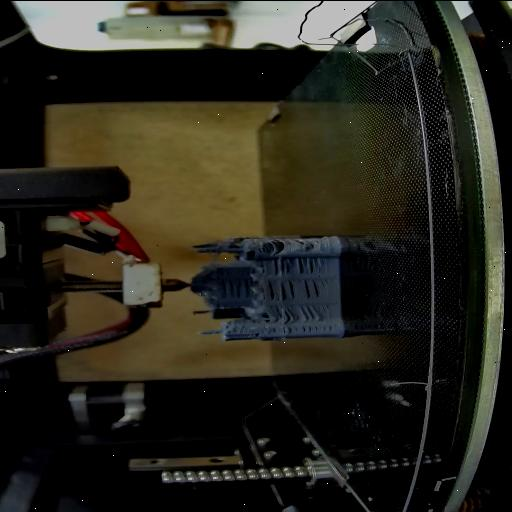cracks: (272, 255, 328, 275), (216, 277, 250, 299), (272, 324, 336, 334), (270, 279, 297, 301), (296, 303, 326, 322), (300, 277, 324, 299), (270, 305, 292, 324), (261, 236, 287, 252), (294, 237, 318, 249), (244, 330, 262, 338)
